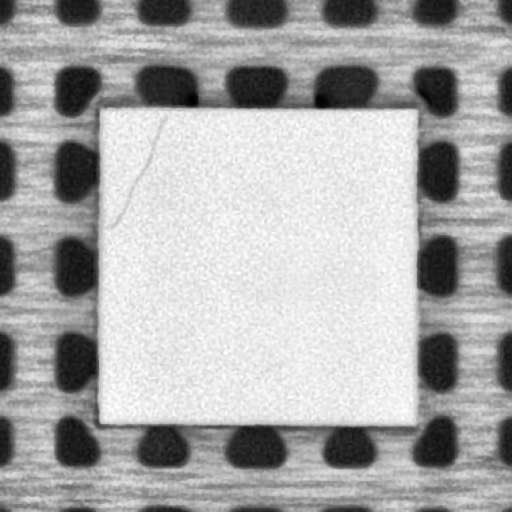DIE_CRACK: (108, 116, 166, 226)
